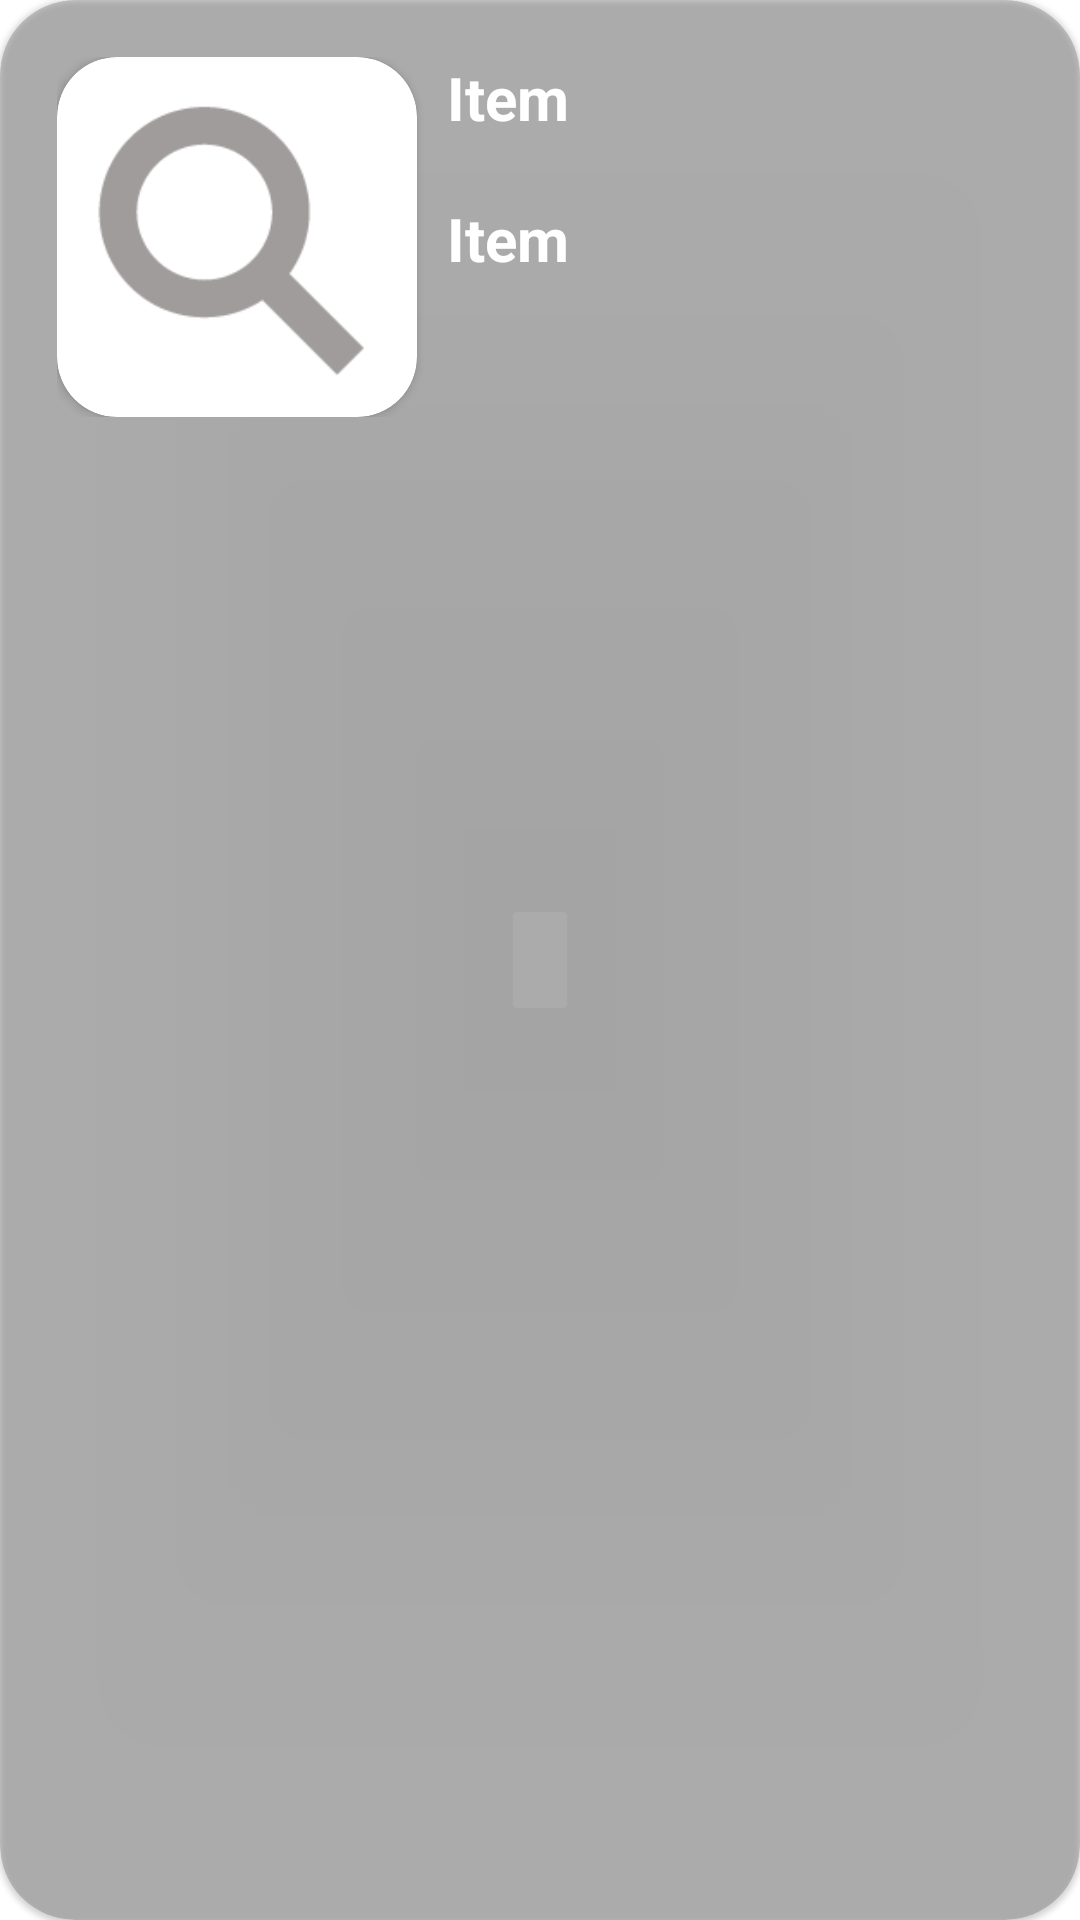

Where to tap for icons on this 1080 x 1920 app screen, as (x=x, y=y):
search: (x=237, y=237)
